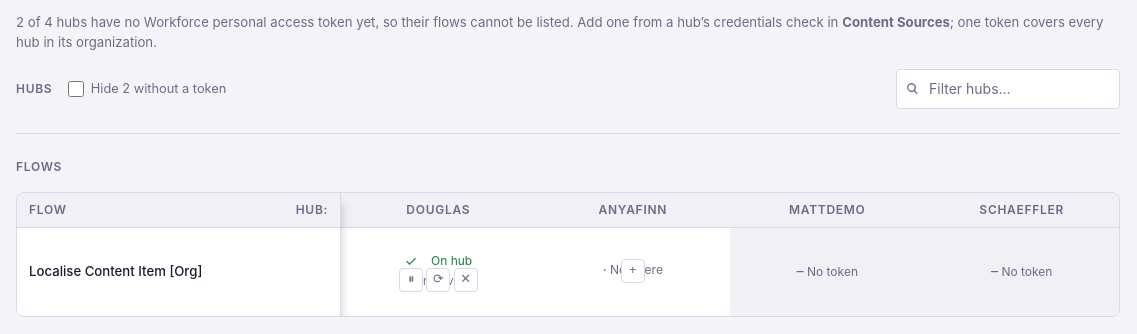
it: FlowsTab — narrowing the hub axis › narrows the columns by name
Type "doug" into the search field labelled "Filter hubs" at (1008, 89), box [896,69,1120,109]
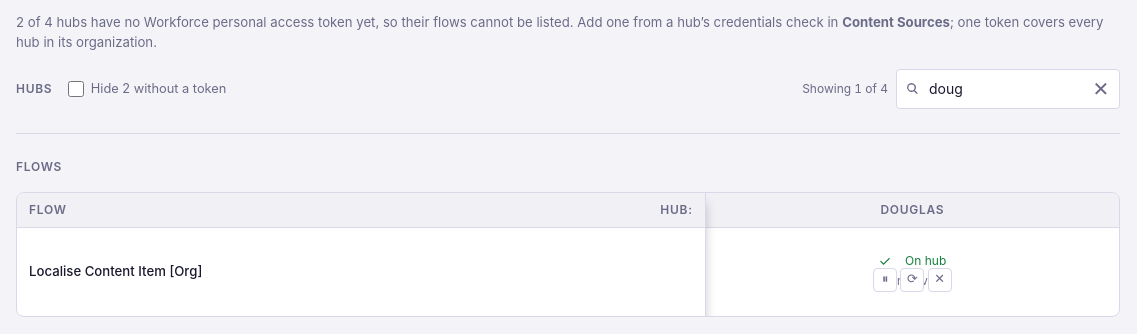
Expected: the column heading "Douglas" is shown, [706,193,1119,228]
Result: the text "AnyaFinn" is gone
